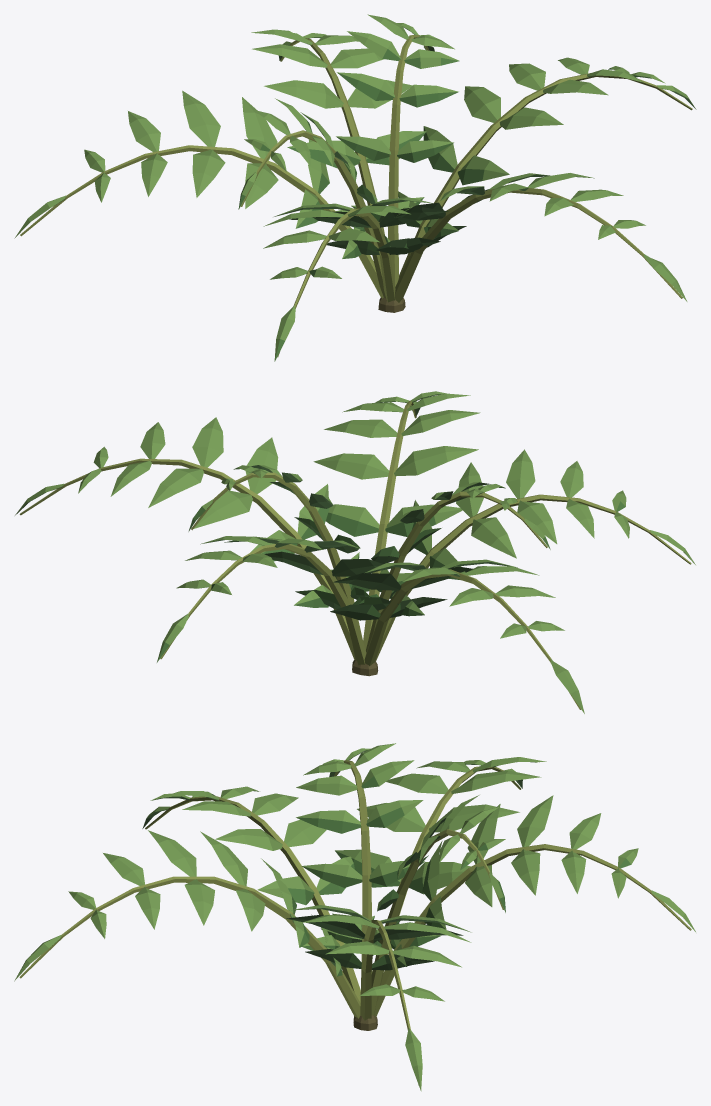
3 renders of one model, top to bottom at view 1: azimuth 30°, elevation 25°; view 2: azimuth 150°, elevation 25°; view 3: azimuth 270°, elevation 25°, orthographic. The views are drawn at different scales.
Visible parts, largest first — view 1: Rachis_C, Rachis_E, Rachis_A, Rachis_F, Rachis_D, Rachis_G, Rachis_B, Pinna_B_03_R, Pinna_C_04_L, Pinna_A_03_R, Pinna_C_03_L, Pinna_C_04_R (+20 smaller); view 2: Rachis_A, Rachis_B, Rachis_C, Rachis_D, Rachis_E, Rachis_F, Rachis_G, Pinna_E_03_L, Pinna_E_03_R, Pinna_E_02_R, Pinna_A_03_R, Pinna_A_04_L (+19 smaller); view 3: Rachis_E, Rachis_B, Rachis_D, Rachis_F, Rachis_A, Rachis_G, Pinna_G_03_R, Pinna_B_04_R, Pinna_G_02_R, Pinna_E_04_L, Pinna_G_03_L, Pinna_C_04_L (+30 smaller).
Boxes of the visible parts, x1,y1,x2,y2 form: Rachis_C: [20, 145, 383, 298]; Rachis_E: [395, 188, 682, 302]; Rachis_A: [398, 73, 692, 280]; Rachis_F: [388, 35, 429, 286]; Rachis_D: [277, 208, 395, 357]; Rachis_G: [240, 130, 386, 298]; Rachis_B: [280, 38, 384, 235]; Pinna_B_03_R: [264, 80, 343, 108]; Pinna_C_04_L: [182, 90, 220, 146]; Pinna_A_03_R: [464, 86, 500, 122]; Pinna_C_03_L: [242, 97, 277, 160]; Pinna_C_04_R: [192, 149, 225, 197]; Rachis_A: [19, 458, 355, 660]; Rachis_B: [160, 544, 366, 665]; Rachis_C: [364, 569, 580, 709]; Rachis_D: [375, 494, 691, 660]; Rachis_E: [363, 400, 416, 649]; Rachis_F: [191, 472, 362, 660]; Rachis_G: [366, 491, 547, 652]; Pinna_E_03_L: [394, 446, 478, 476]; Pinna_E_03_R: [313, 453, 389, 479]; Pinna_E_02_R: [326, 504, 379, 536]; Pinna_A_03_R: [194, 490, 252, 528]; Pinna_A_04_L: [192, 417, 223, 467]; Rachis_E: [19, 876, 360, 1018]; Rachis_B: [374, 844, 691, 1016]; Rachis_D: [145, 796, 360, 1002]; Rachis_F: [371, 829, 503, 1015]; Rachis_A: [360, 920, 418, 1085]; Rachis_G: [334, 760, 372, 973]; Pinna_G_03_R: [296, 810, 360, 833]; Pinna_B_04_R: [517, 795, 553, 846]; Pinna_G_02_R: [301, 863, 362, 887]; Pinna_E_04_L: [148, 830, 196, 876]; Pinna_G_03_L: [366, 800, 423, 827]; Pinna_C_04_L: [451, 770, 541, 793].
Bounding box in the file's own units: 1.2 × 0.426 × 1.11.
